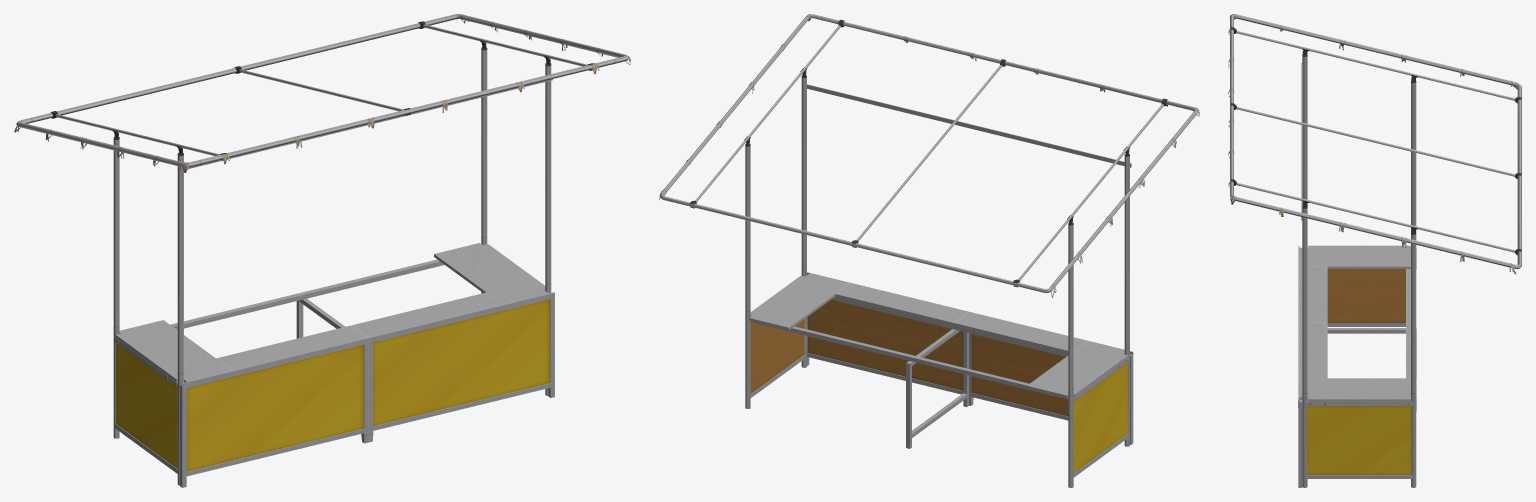
Rendered from jsf_4P_s03_c03_t04.fbx.
3 renders of one model, left to right at view 1: azimuth 30°, elevation 25°; view 2: azimuth 150°, elevation 25°; view 3: azimuth 270°, elevation 25°, orthographic. The views are drawn at different scales.
Parts seen in each view (by area): view 1: Base_s03_c03, Pillar4_s03, Table_4P_s03_t04, Rope_4P_s03, Support; view 2: Base_s03_c03, Pillar4_s03, Table_4P_s03_t04, Support; view 3: Base_s03_c03, Pillar4_s03, Table_4P_s03_t04, Support, Rope_4P_s03.
Boxes of the visible parts, bbox=[...] form: Base_s03_c03: bbox=[114, 292, 554, 487]; Pillar4_s03: bbox=[16, 14, 628, 485]; Table_4P_s03_t04: bbox=[115, 243, 548, 386]; Rope_4P_s03: bbox=[14, 14, 630, 172]; Support: bbox=[296, 298, 361, 439]; Base_s03_c03: bbox=[750, 272, 1133, 477]; Pillar4_s03: bbox=[659, 14, 1198, 487]; Table_4P_s03_t04: bbox=[749, 273, 1128, 400]; Support: bbox=[906, 329, 968, 448]; Base_s03_c03: bbox=[1298, 245, 1412, 487]; Pillar4_s03: bbox=[1230, 14, 1521, 487]; Table_4P_s03_t04: bbox=[1299, 245, 1416, 405]; Support: bbox=[1327, 328, 1416, 411]; Rope_4P_s03: bbox=[1228, 14, 1517, 274].
Bounding box in the file's own units: 316 × 243 × 211.
